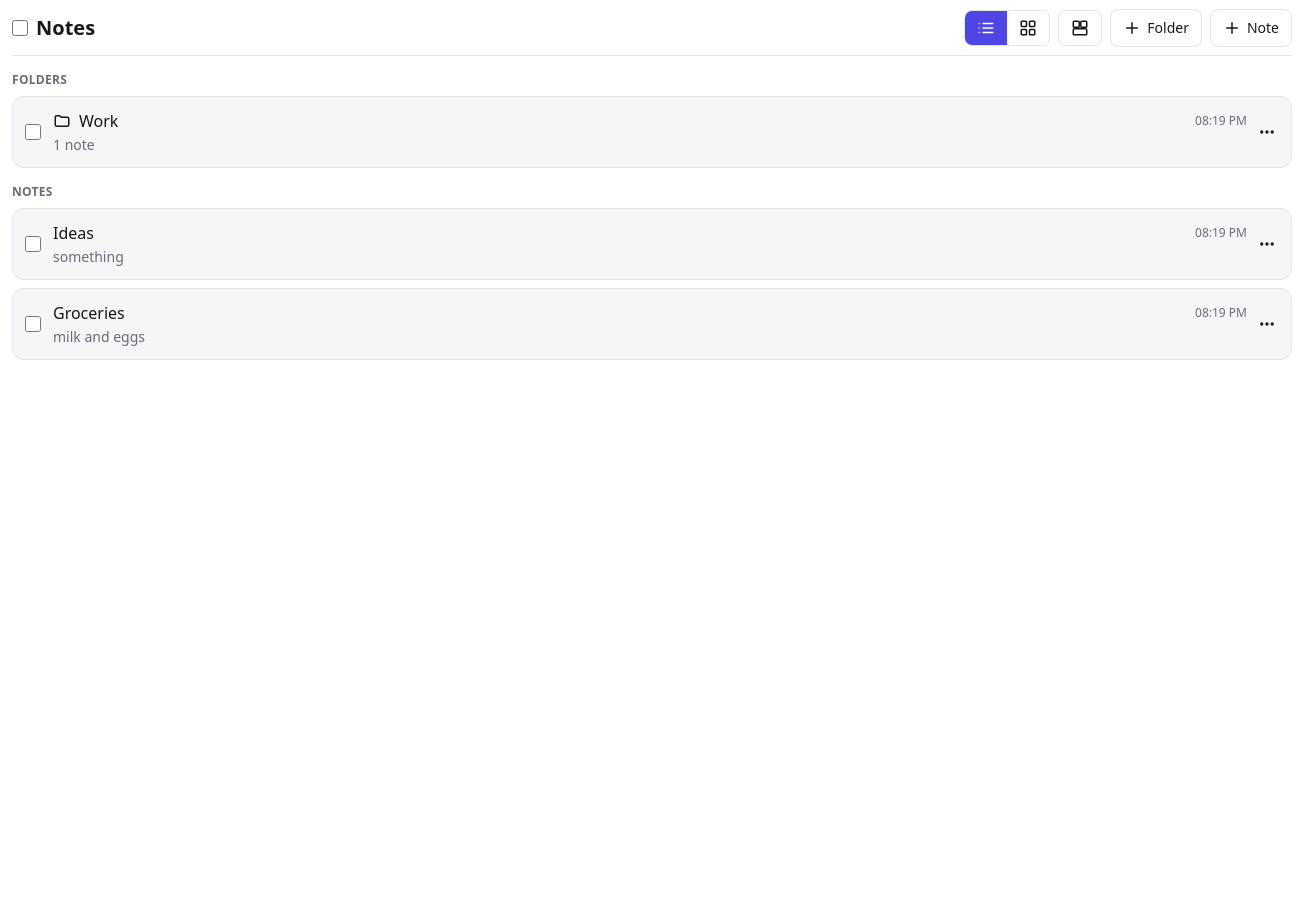
the ⋯ options menu on each card › opens the menu without opening the note
This screenshot has width=1304, height=900.
Click the button named "Options for Groceries".
click(1267, 324)  # box [1249,306,1285,342]
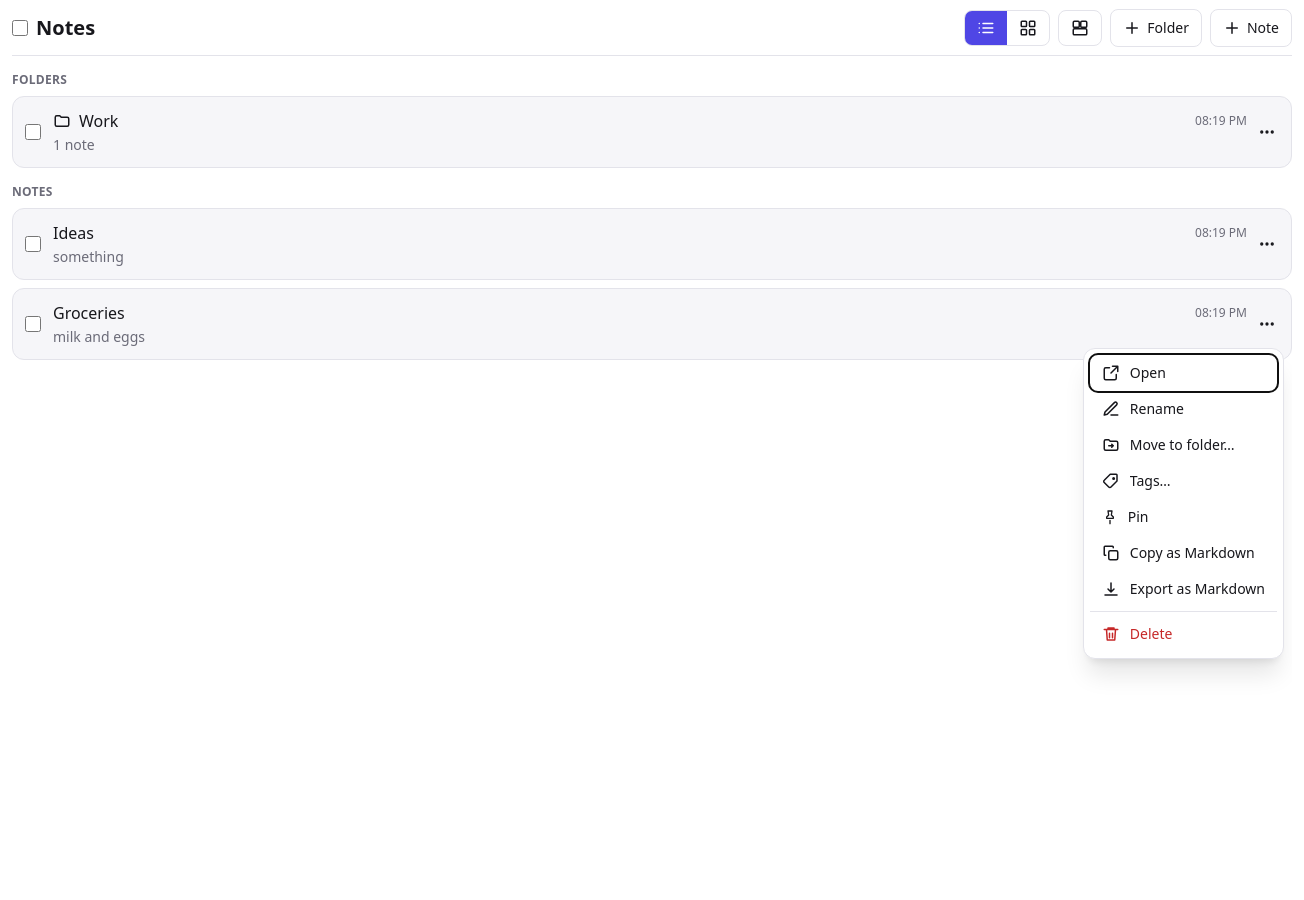
Result: the menu is shown at [1083,348,1284,659]
